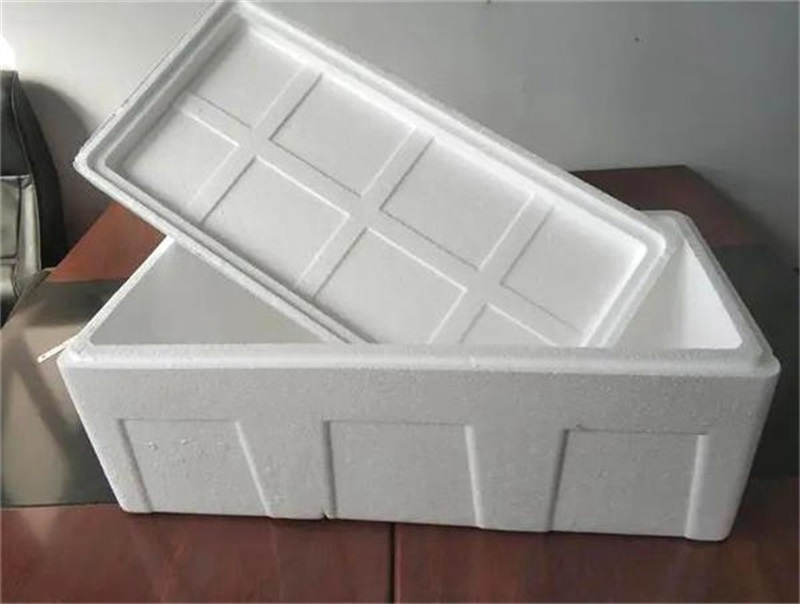Boxes: (58, 3, 779, 539)
